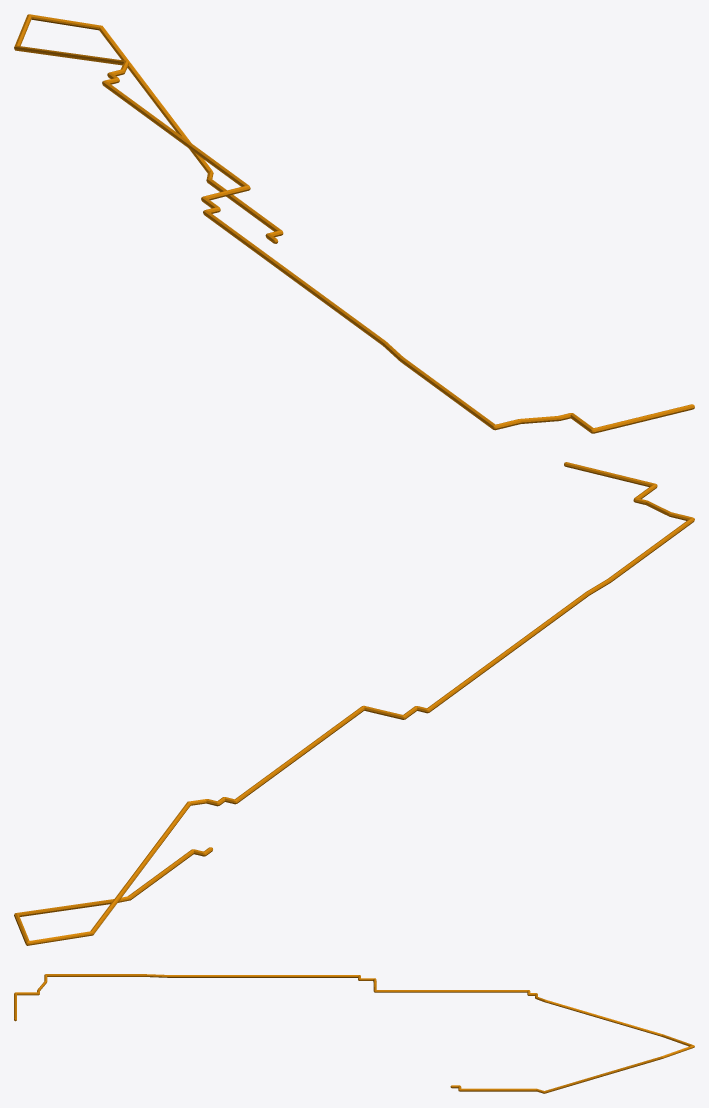
3 views of the same model, one above another, from view 1: azimuth 30°, elevation 25°; view 2: azimuth 150°, elevation 25°; view 3: azimuth 270°, elevation 25° (orthographic). The views are drawn at different scales.
Size of the model in its own units: 749 by 520 by 4435.
